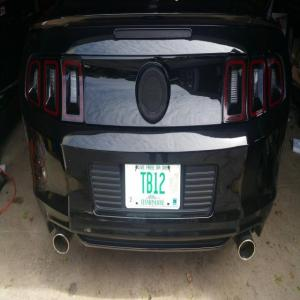Plate: (125, 164, 181, 210)
